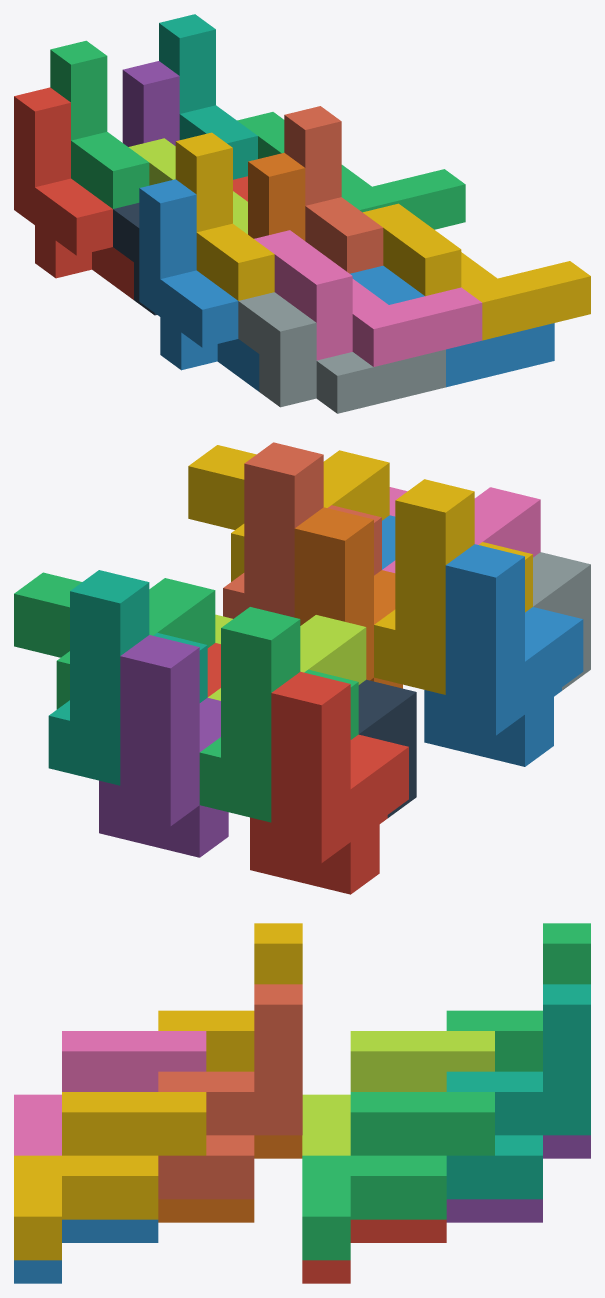
Rendered from tiling.obj.
3 views of the same model, one above another, from view 1: azimuth 30°, elevation 25°; view 2: azimuth 150°, elevation 25°; view 3: azimuth 270°, elevation 25° (orthographic). The views are drawn at different scales.
Visible parts, largest first — view 1: copy_2_domain_4, copy_1_domain_2, copy_1_domain_1, copy_2_domain_2, copy_2_domain_8, copy_1_domain_4, copy_1_domain_8, copy_1_domain_3, copy_1_domain_7, copy_2_domain_7, copy_2_domain_6, copy_1_domain_6 (+3 smaller); view 2: copy_1_domain_2, copy_1_domain_1, copy_1_domain_5, copy_1_domain_3, copy_1_domain_7, copy_1_domain_4, copy_1_domain_8, copy_1_domain_6, copy_2_domain_8, copy_2_domain_7, copy_2_domain_4, copy_2_domain_3 (+4 smaller); view 3: copy_2_domain_7, copy_2_domain_8, copy_1_domain_8, copy_1_domain_7, copy_2_domain_3, copy_2_domain_4, copy_1_domain_4, copy_1_domain_3, copy_1_domain_6, copy_2_domain_5, copy_1_domain_5, copy_2_domain_6.
Boxes of the visible parts, x1,y1,x2,y2 form: copy_2_domain_4: (254, 230, 482, 366); copy_1_domain_2: (139, 179, 259, 391); copy_1_domain_1: (14, 87, 133, 299); copy_2_domain_2: (238, 292, 445, 413); copy_2_domain_8: (363, 203, 590, 340); copy_1_domain_4: (175, 132, 274, 300); copy_1_domain_8: (284, 106, 383, 273); copy_1_domain_3: (50, 40, 149, 208); copy_1_domain_7: (159, 14, 257, 179); copy_2_domain_7: (237, 112, 465, 229); copy_2_domain_6: (350, 265, 554, 387); copy_1_domain_6: (248, 152, 305, 240); copy_1_domain_2: (424, 544, 583, 766); copy_1_domain_1: (250, 671, 408, 894); copy_1_domain_5: (99, 635, 228, 857); copy_1_domain_3: (199, 607, 358, 822); copy_1_domain_7: (48, 570, 207, 785); copy_1_domain_4: (374, 479, 532, 694); copy_1_domain_8: (223, 442, 381, 618); copy_1_domain_6: (294, 507, 402, 688); copy_2_domain_8: (188, 445, 389, 581); copy_2_domain_7: (14, 572, 215, 709); copy_2_domain_4: (382, 487, 540, 572); copy_2_domain_3: (208, 614, 366, 700); copy_2_domain_7: (302, 1092, 494, 1260); copy_2_domain_8: (14, 1092, 206, 1260); copy_1_domain_8: (158, 984, 302, 1199); copy_1_domain_7: (446, 984, 590, 1199); copy_2_domain_3: (302, 1031, 494, 1155); copy_2_domain_4: (14, 1031, 206, 1155); copy_1_domain_4: (158, 923, 302, 1071); copy_1_domain_3: (446, 923, 590, 1071); copy_1_domain_6: (158, 1135, 302, 1222); copy_2_domain_5: (302, 1219, 446, 1283); copy_1_domain_5: (446, 1135, 590, 1222); copy_2_domain_6: (14, 1219, 158, 1283).
Bounding box in the file's own units: 9 × 5 × 12.
